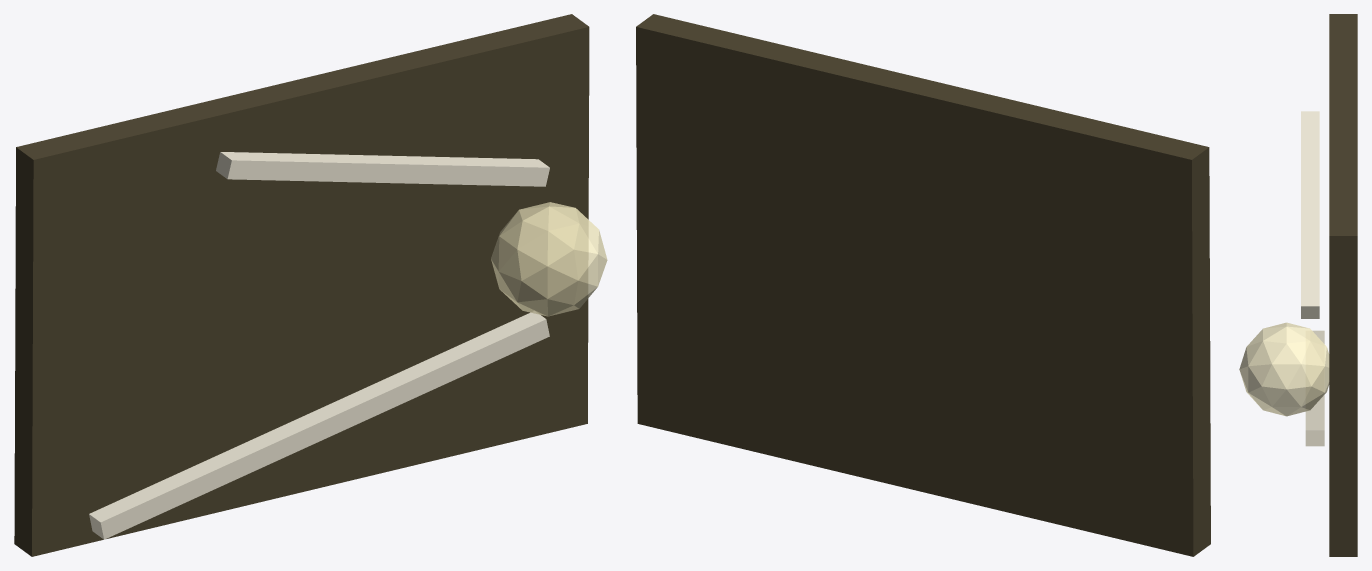
File: 02_world_prop_polish.glb
3 views of the same model, side by side, from view 1: azimuth 30°, elevation 25°; view 2: azimuth 150°, elevation 25°; view 3: azimuth 270°, elevation 25° (orthographic). The views are drawn at different scales.
Parts seen in each view (by area): view 1: object_overlay_plate, edge_wear_a, glow_socket, edge_wear_b; view 2: object_overlay_plate; view 3: object_overlay_plate, glow_socket, edge_wear_b, edge_wear_a.
Boxes of the visible parts, <box> form: object_overlay_plate: <box>14,14,589,556</box>; edge_wear_a: <box>89,311,549,539</box>; glow_socket: <box>491,202,607,316</box>; edge_wear_b: <box>216,152,549,186</box>; object_overlay_plate: <box>636,14,1210,556</box>; object_overlay_plate: <box>1329,14,1357,556</box>; glow_socket: <box>1239,322,1329,416</box>; edge_wear_b: <box>1301,111,1319,318</box>; edge_wear_a: <box>1305,330,1324,446</box>.
Size of the model in its own units: 1.1 by 0.7547 by 0.25.
